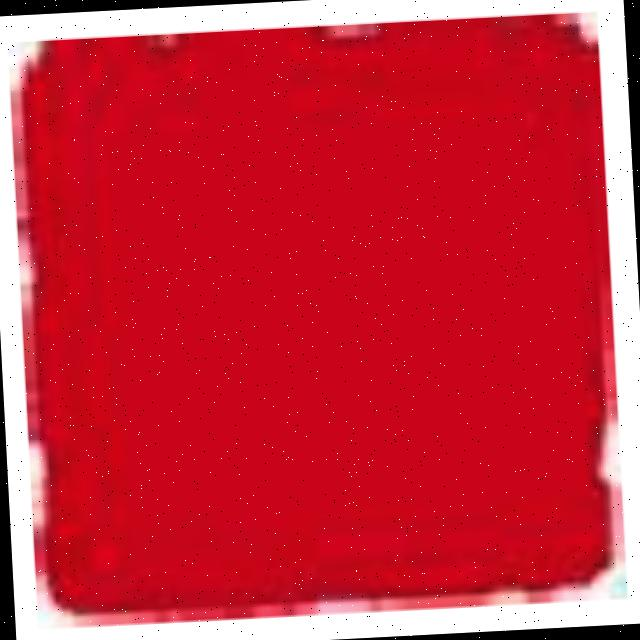red_block: (5, 7, 621, 626)
